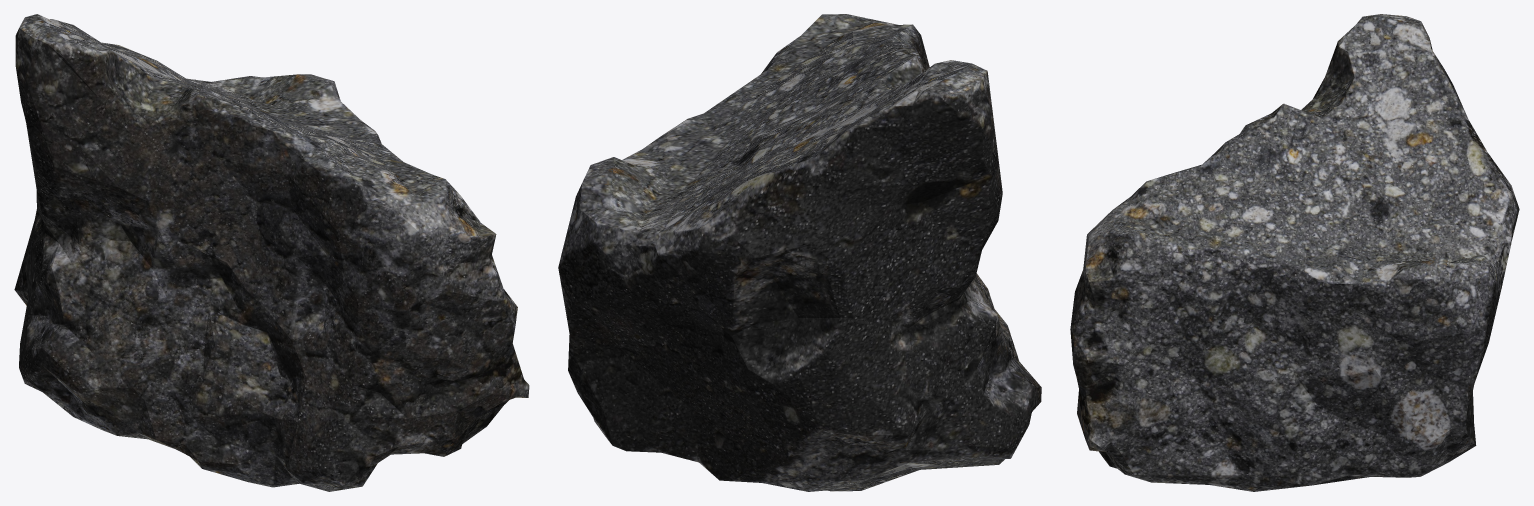
Rendered from PRA04402-23.fbx.
3 renders of one model, left to right at view 1: azimuth 30°, elevation 25°; view 2: azimuth 150°, elevation 25°; view 3: azimuth 270°, elevation 25°, orthographic. The views are drawn at different scales.
Parts seen in each view (by area): view 1: PRA04402-23; view 2: PRA04402-23; view 3: PRA04402-23.
Boxes of the visible parts, x1=… form: PRA04402-23: x1=14, y1=14, x2=529, y2=491; PRA04402-23: x1=558, y1=14, x2=1041, y2=491; PRA04402-23: x1=1070, y1=14, x2=1519, y2=491.
Size of the model in its own units: 22.75 by 24.84 by 27.48.
